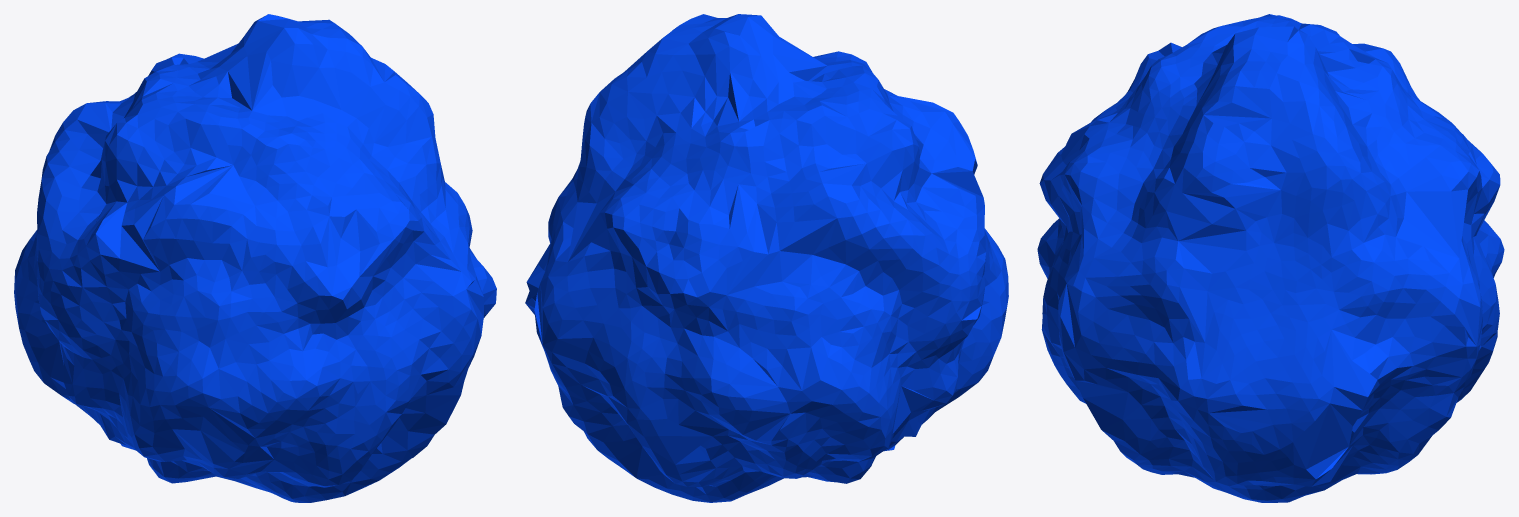
File: cyanStoneGlobal.glb
The picture shows the model from 3 angles, left to right: view 1: azimuth 30°, elevation 25°; view 2: azimuth 150°, elevation 25°; view 3: azimuth 270°, elevation 25°; orthographic projection.
Visible parts, largest first — view 1: Skin2.001; view 2: Skin2.001; view 3: Skin2.001.
Part boxes in pixels (left/top/right/bottom): Skin2.001: left=14, top=14, right=496, bottom=502; Skin2.001: left=525, top=14, right=1008, bottom=502; Skin2.001: left=1037, top=14, right=1504, bottom=502.
Bounding box in the file's own units: 5.99 × 6.17 × 5.81.
